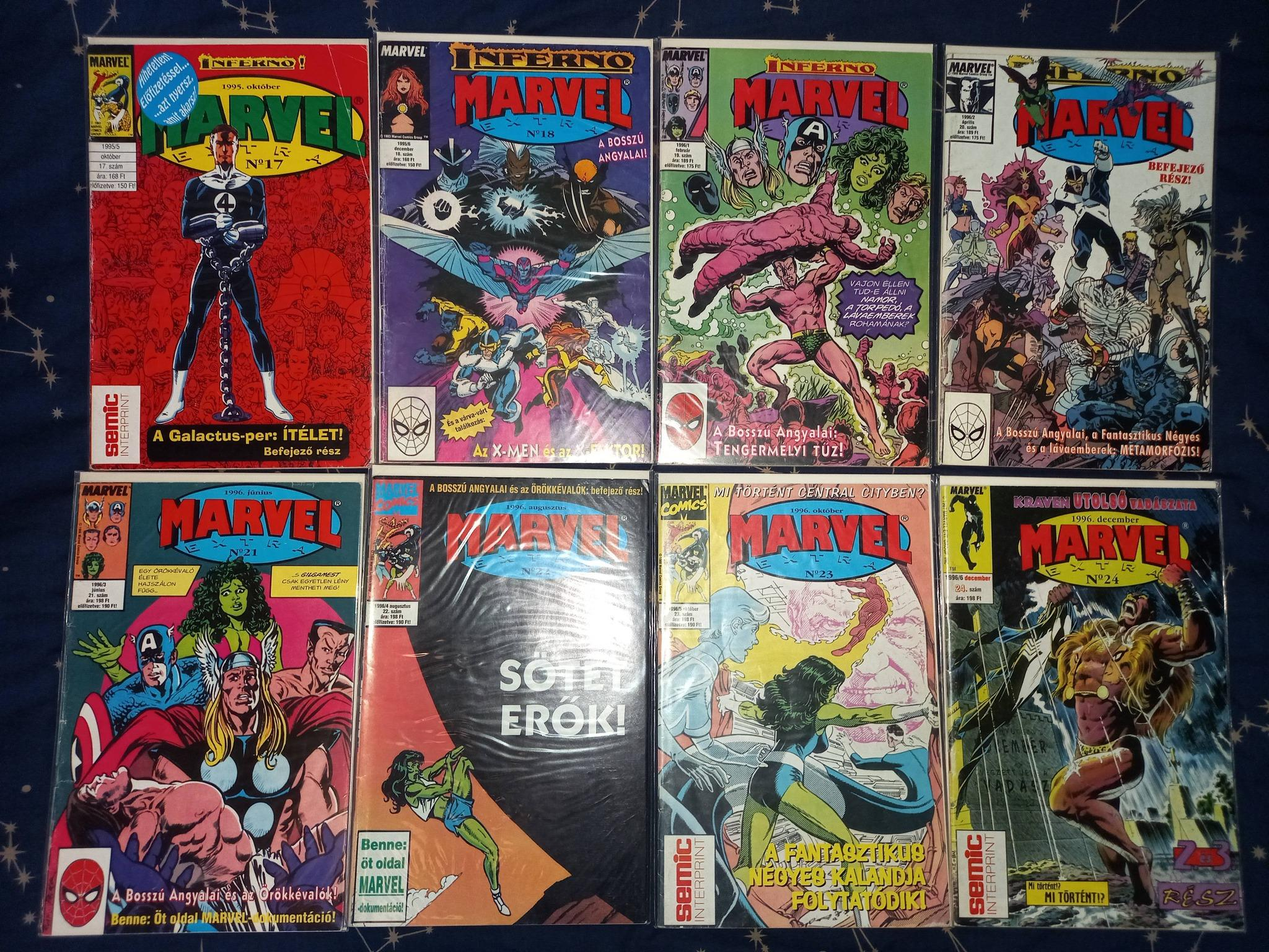comic: (41, 455, 374, 952), (939, 468, 1244, 937), (349, 465, 656, 930), (656, 473, 950, 928), (83, 36, 373, 469), (374, 33, 653, 464), (936, 47, 1216, 470), (657, 39, 932, 465)
